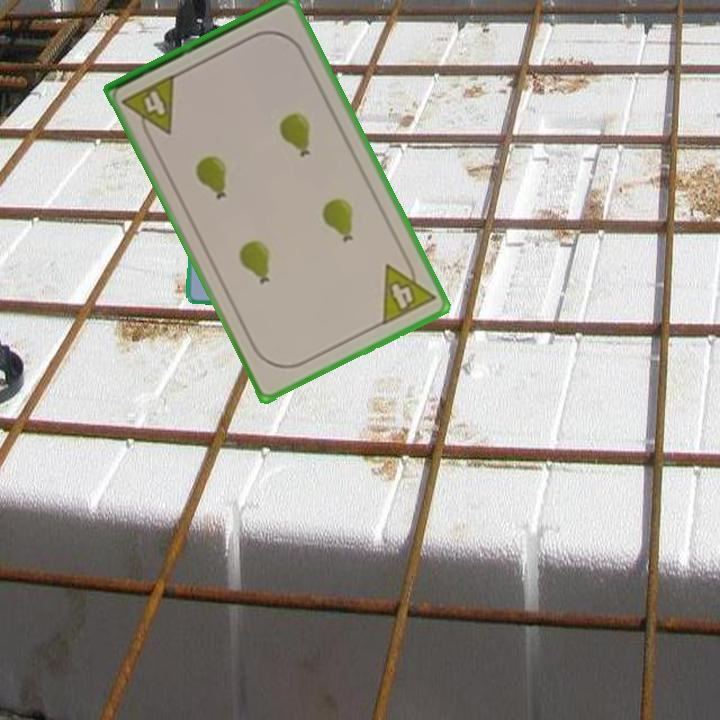4p: (378, 252, 439, 328), (119, 70, 179, 145)
